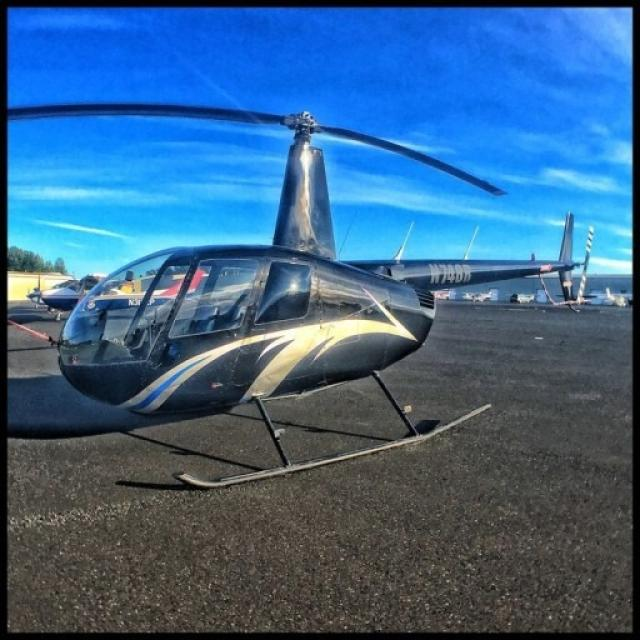CIV_HELO: (11, 102, 592, 492)
